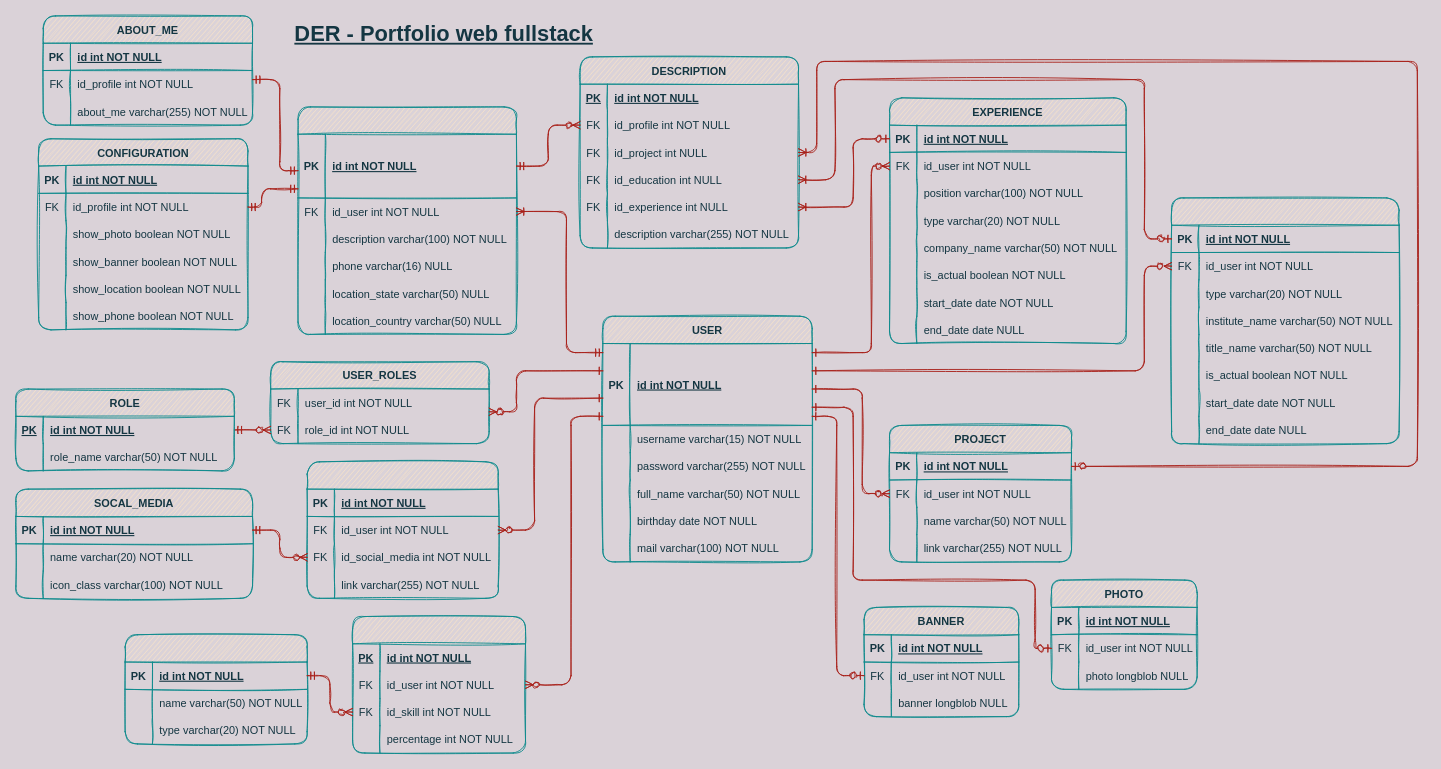
The diagram is 1441 pixels wide and 769 high, and some of its shapes have lost their labels. The box of each missing label's shape, as (x1, y1, x2, y2) in pixels:
EDUCATION: (1171, 197, 1399, 444)
PROFILE: (297, 106, 516, 334)
SKILL: (124, 634, 307, 744)
USER_SKILLS: (352, 616, 526, 753)
USER_SOCAL_MEDIA: (306, 461, 498, 598)
